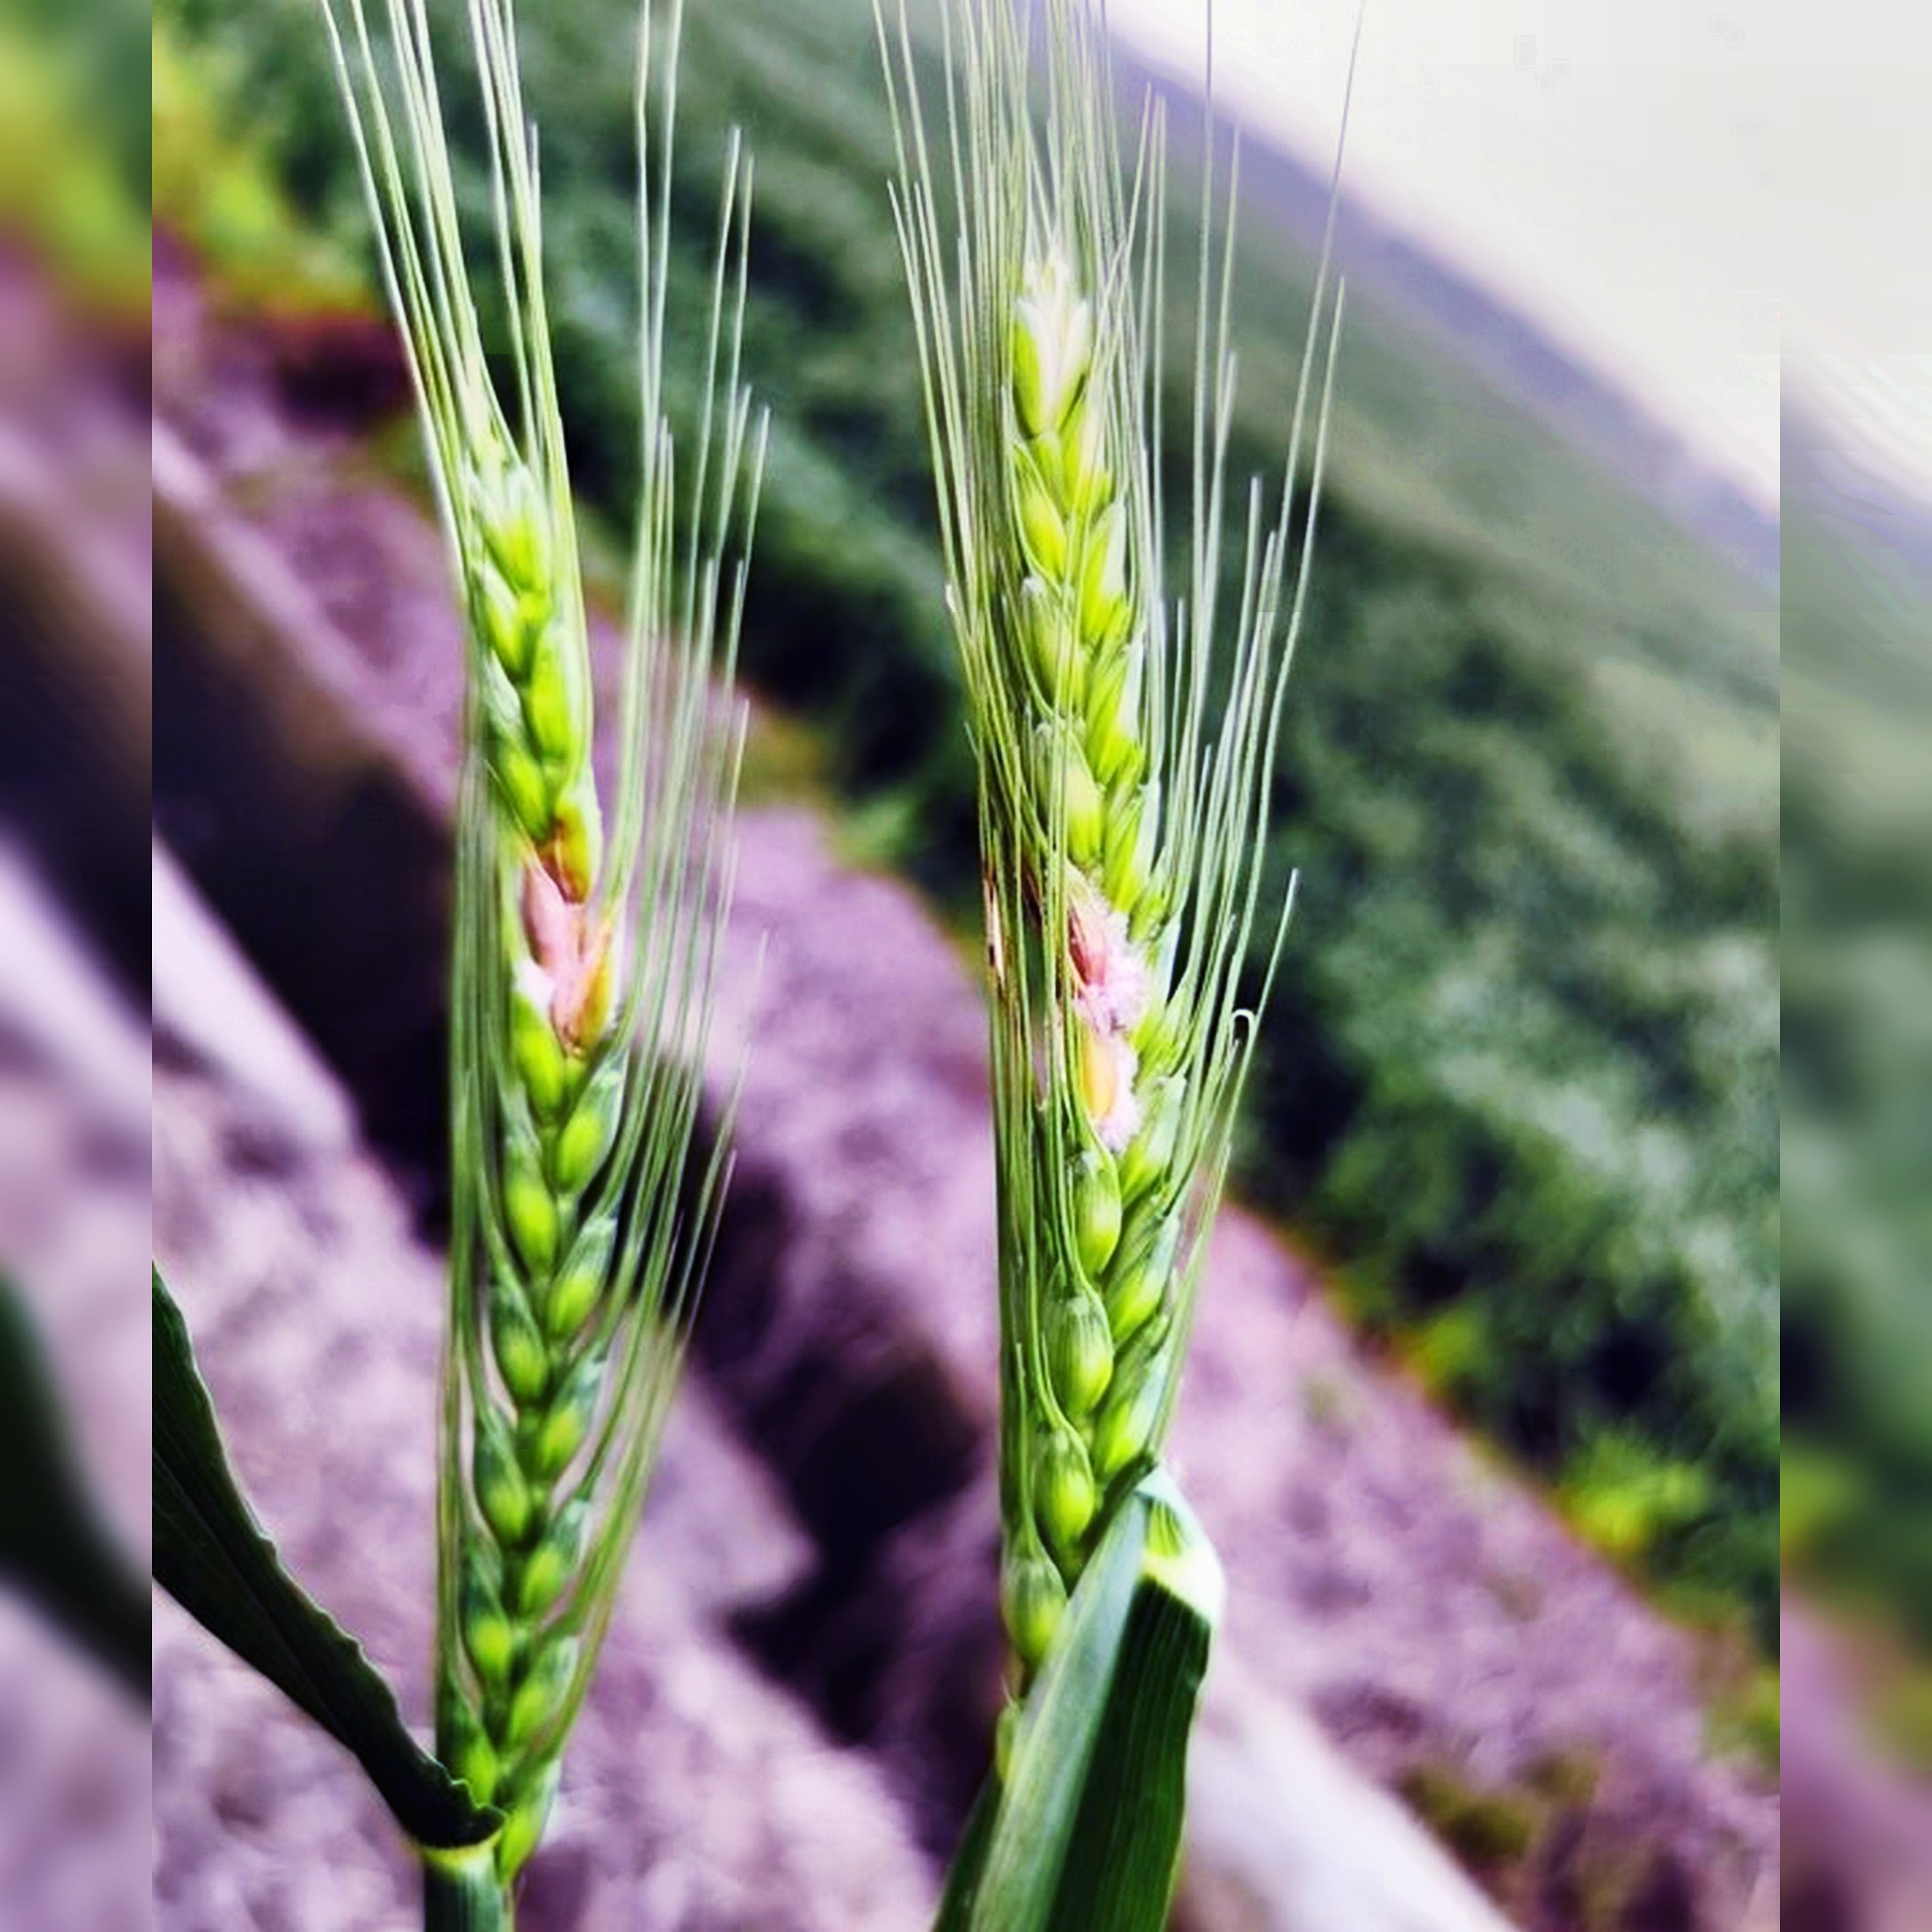Wheat scab: (904, 727, 1269, 1235), (449, 681, 715, 1276)
